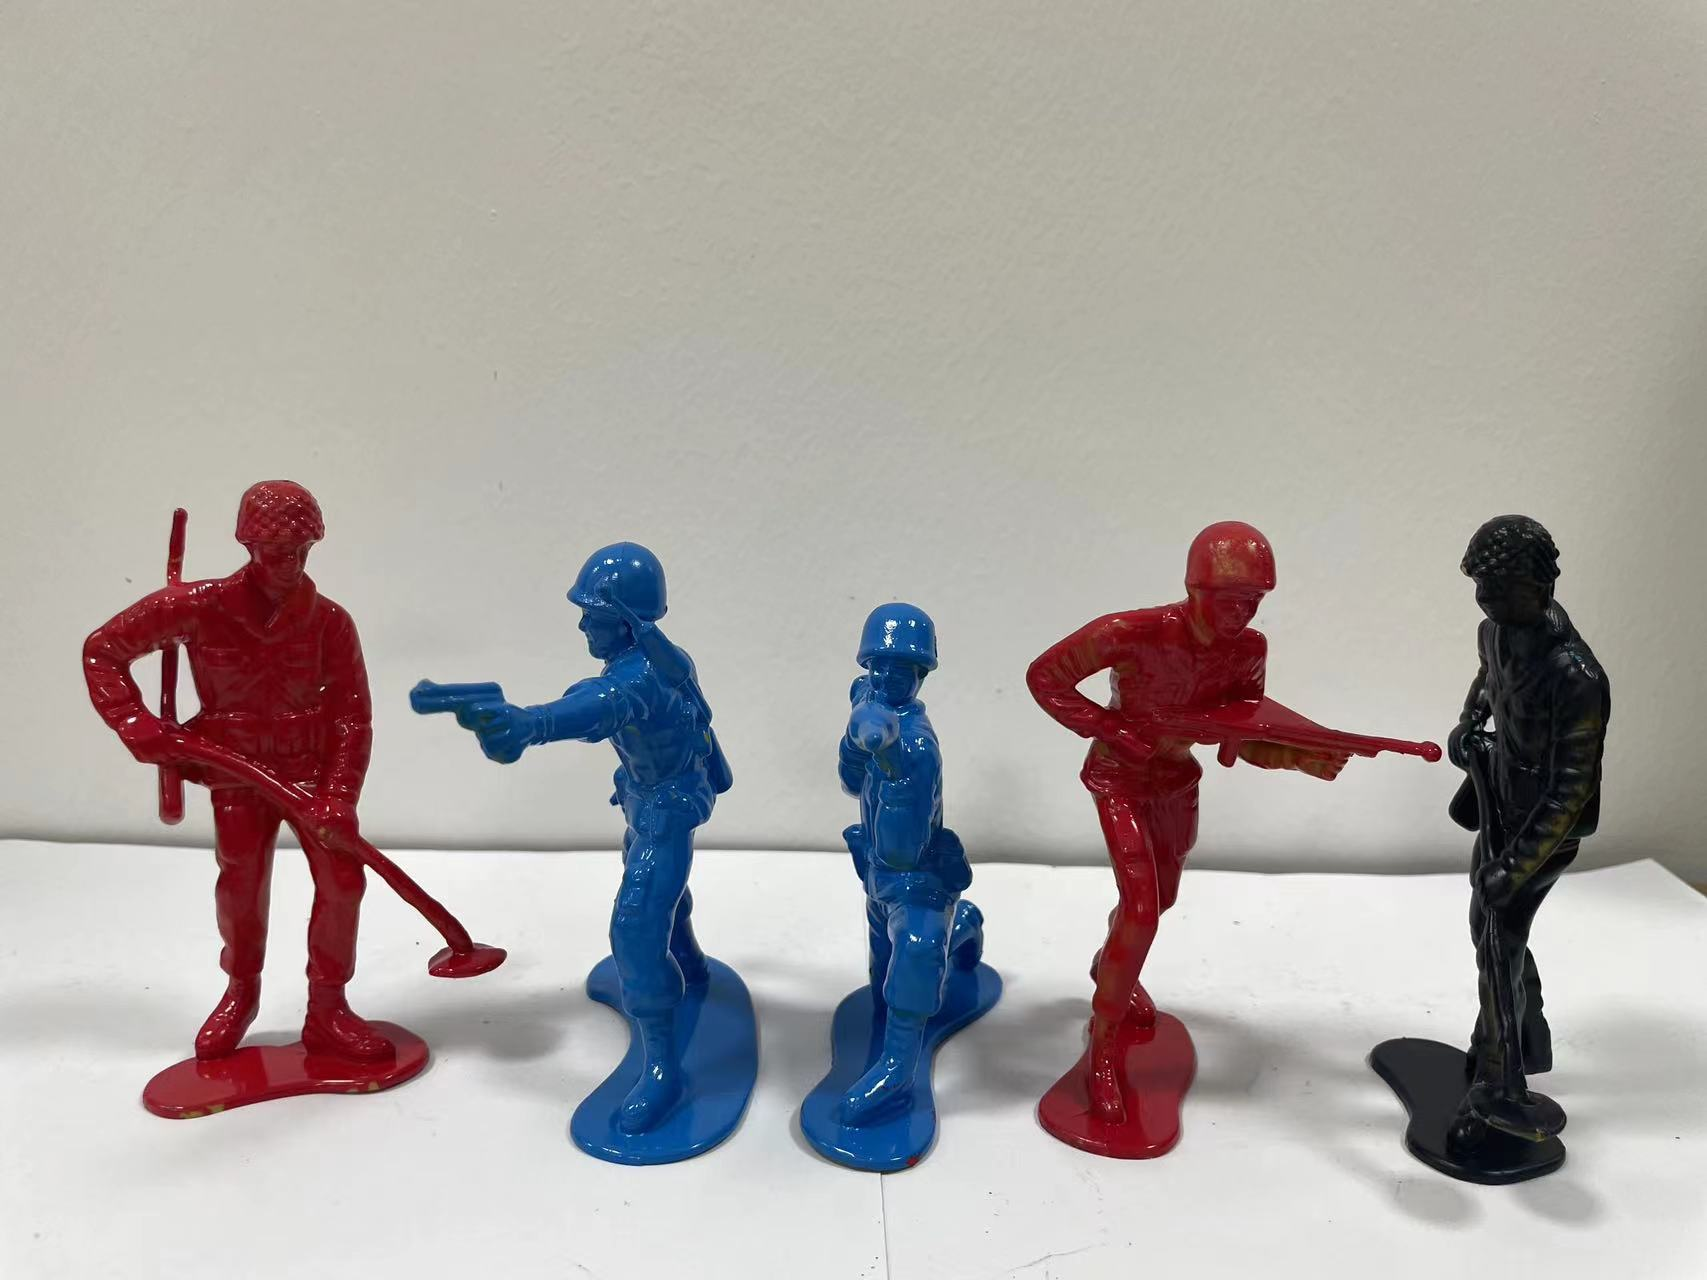black: (1374, 493, 1659, 1211)
blue: (430, 519, 776, 1176), (805, 579, 1047, 1194)
red: (48, 448, 454, 1137), (1023, 497, 1390, 1202)
